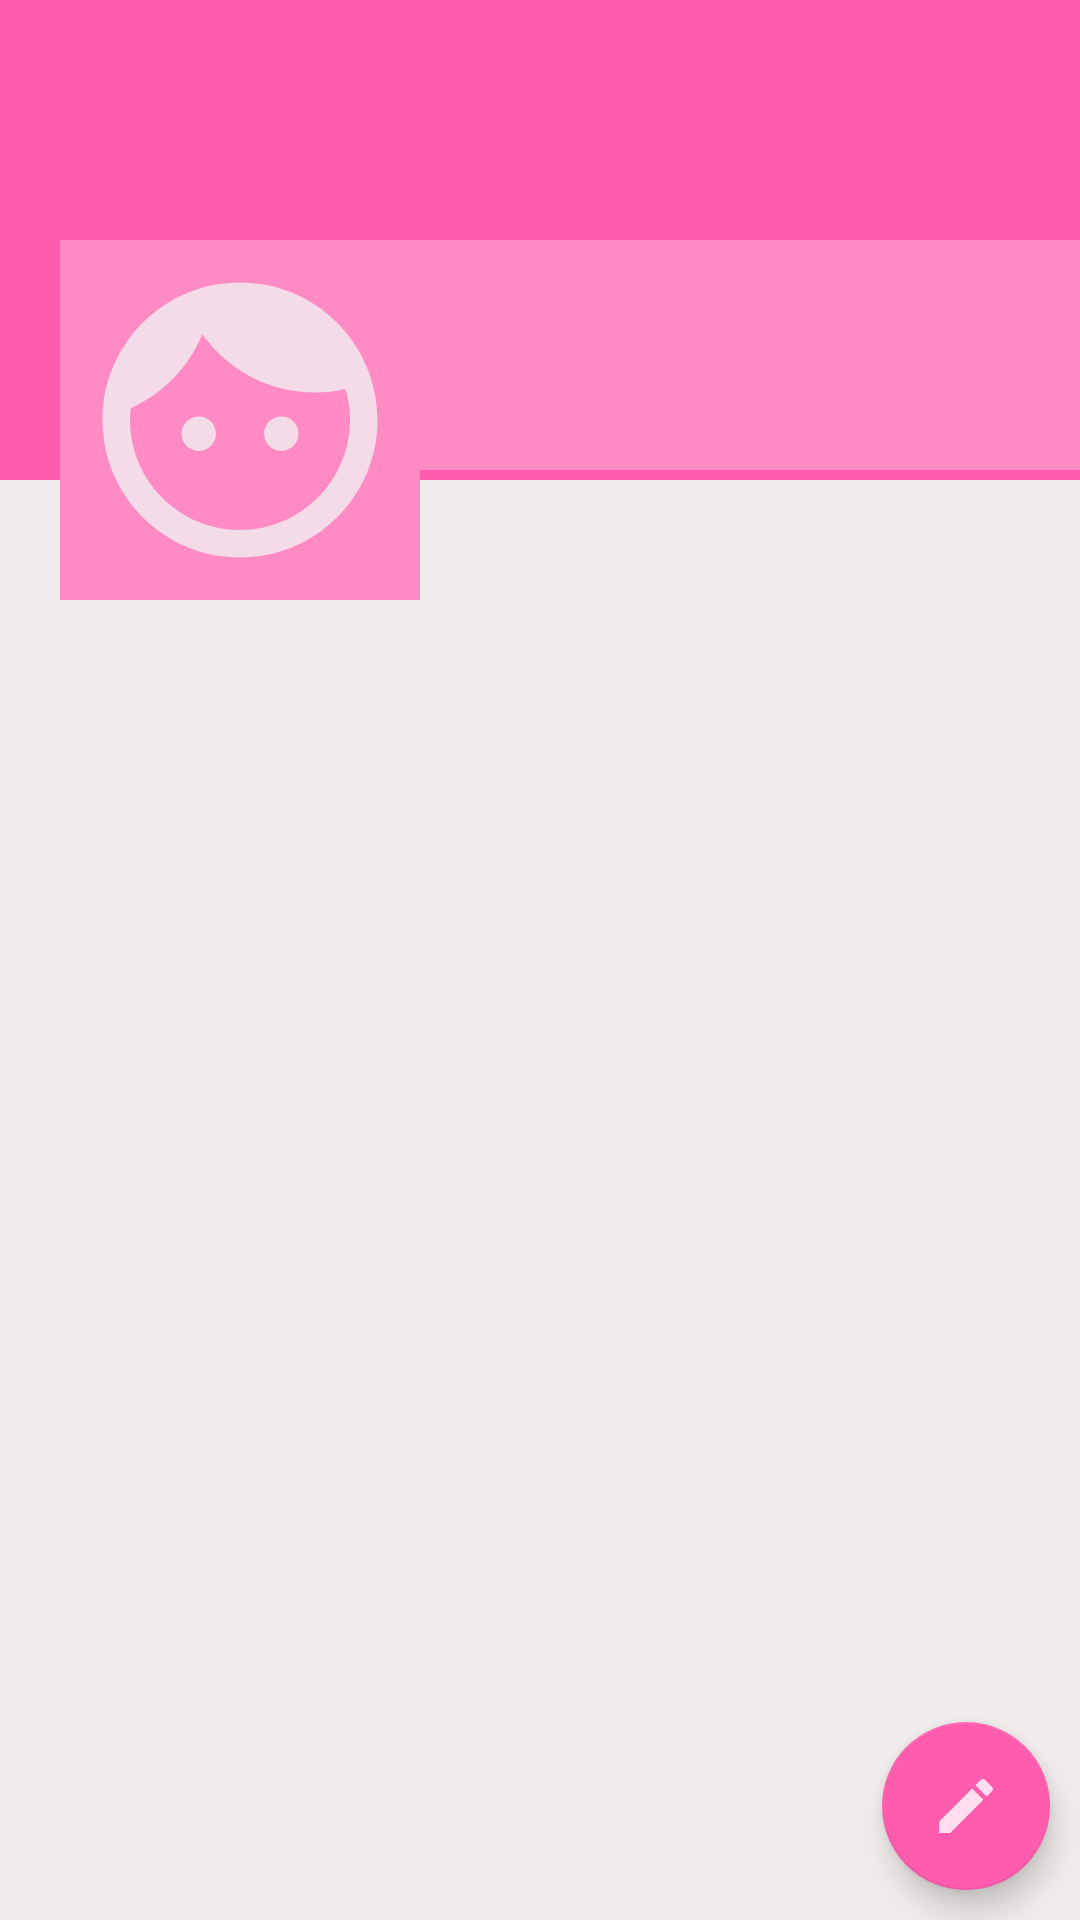

Screen size 1080 × 1920. Icon name, then its box in pixels as (x1,y1,x2,y2):
edit: (882,1722,1050,1890)
